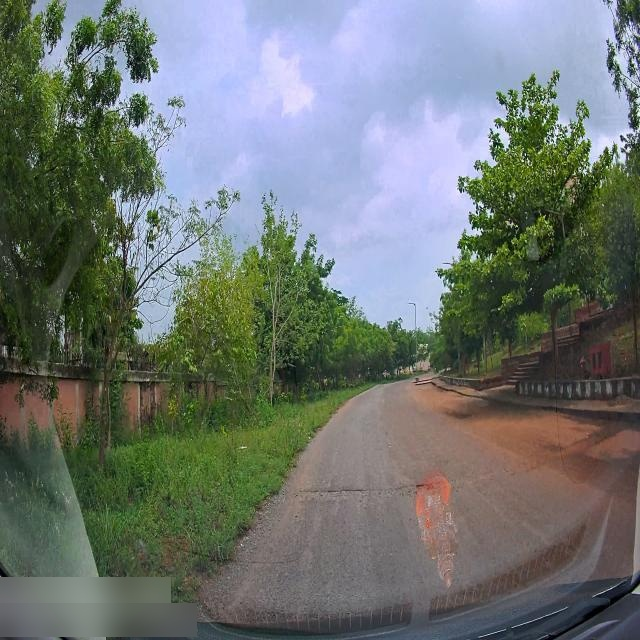pothole: (393, 478, 438, 503), (306, 488, 362, 504)
